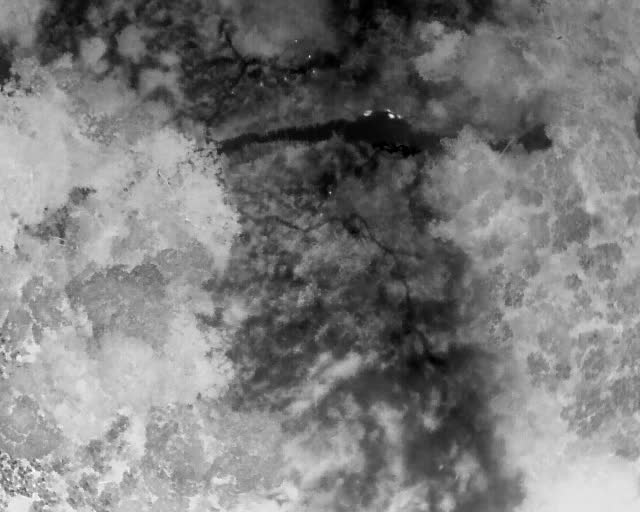car: (336, 199, 353, 240)
person: (360, 233, 369, 246), (362, 226, 368, 237)
